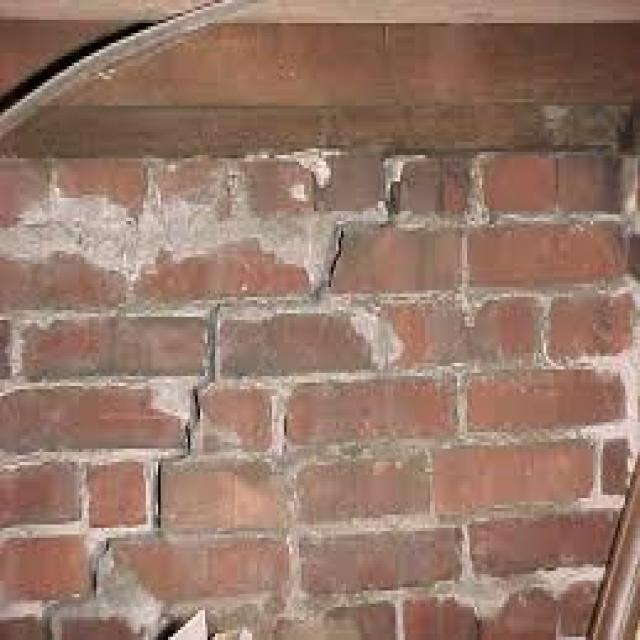Crack: (81, 152, 408, 600)
